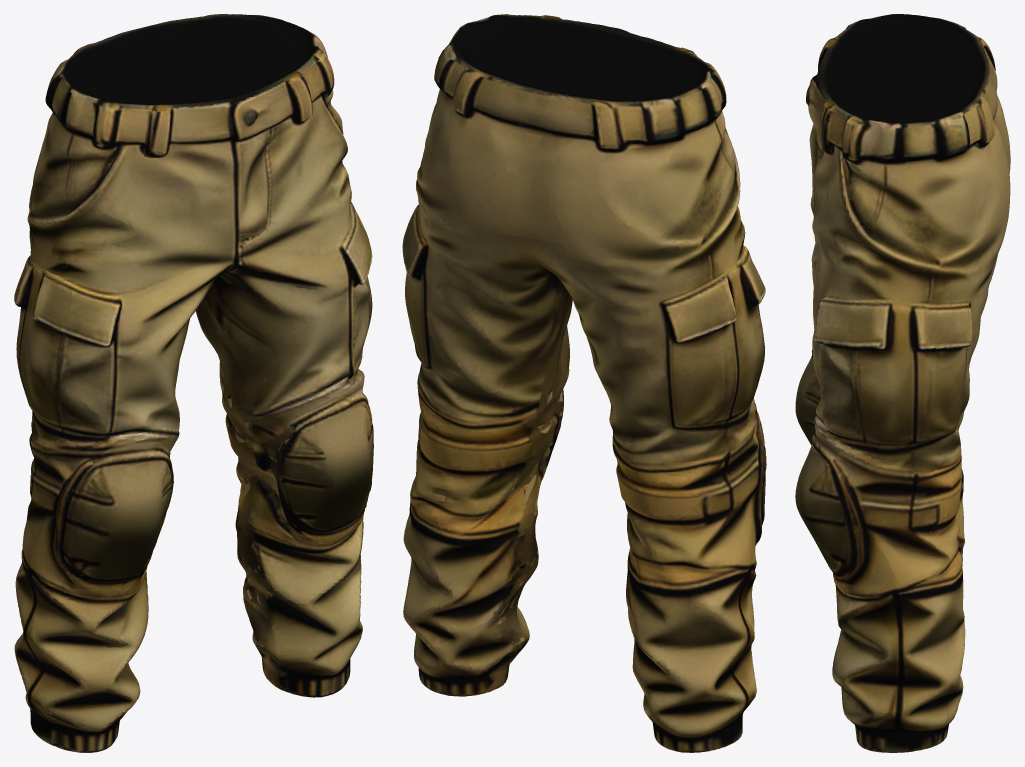
File: hy_suit_bottom.glb
3 renders of one model, left to right at view 1: azimuth 30°, elevation 25°; view 2: azimuth 150°, elevation 25°; view 3: azimuth 270°, elevation 25°, orthographic. The views are drawn at different scales.
Visible parts, largest first — view 1: tmpfm8le7_q.ply; view 2: tmpfm8le7_q.ply; view 3: tmpfm8le7_q.ply.
Part boxes in pixels (box(x1,y1,x2,y2)): tmpfm8le7_q.ply: box(14, 14, 373, 752); tmpfm8le7_q.ply: box(402, 14, 766, 752); tmpfm8le7_q.ply: box(795, 14, 1010, 752).
Size of the model in its own units: 1.07 by 1.99 by 0.6263.
Materials: 1 (1 with a texture image).
